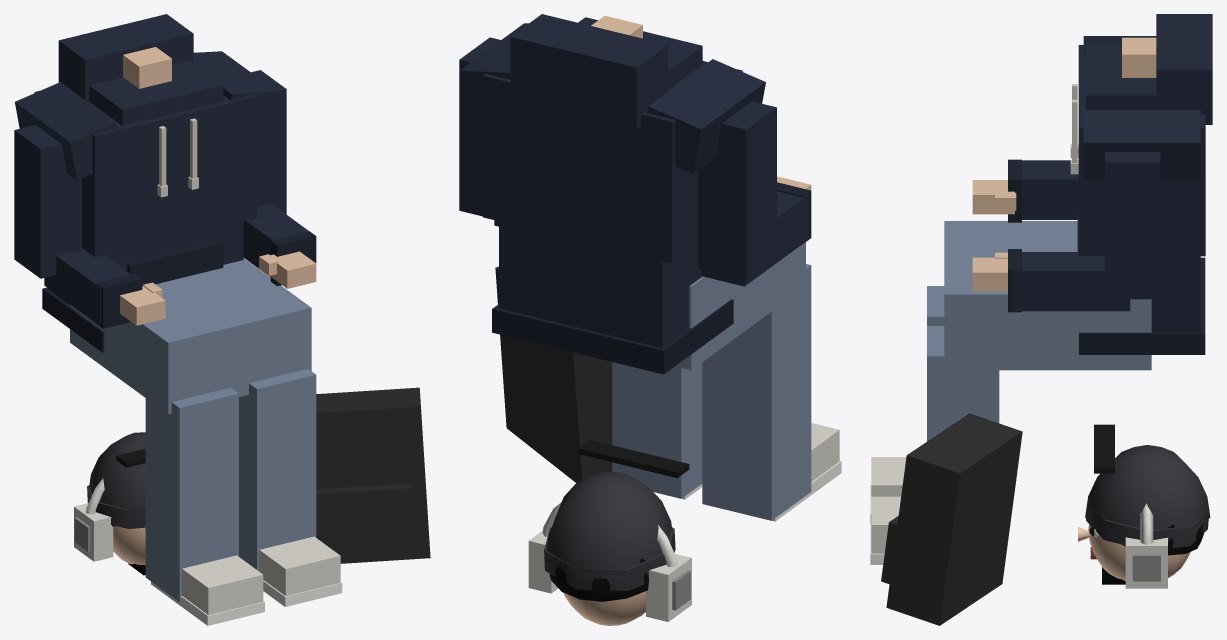
The model's file is passenger_hoodie_seated.fbx.
3 views of the same model, side by side, from view 1: azimuth 30°, elevation 25°; view 2: azimuth 150°, elevation 25°; view 3: azimuth 270°, elevation 25° (orthographic). The views are drawn at different scales.
Parts seen in each view (by area): view 1: Mesh_12, Mesh_15, Mesh_18, Mesh_16, Mesh_13, Body_Skin, Mesh_8, Mesh_17, Mesh_9, Mesh_14, Head_Skin; view 2: Mesh_12, Mesh_15, Mesh_18, Mesh_8, Mesh_13, Mesh_9, Mesh_0, Head_Skin, Mesh_1, Mesh_16, Body_Skin, Mesh_17 (+1 smaller); view 3: Mesh_12, Mesh_15, Mesh_18, Mesh_8, Mesh_13, Body_Skin, Mesh_16, Mesh_9, Head_Skin, Mesh_0, Mesh_10, Mesh_14.
Part boxes in pixels (x1,y1,x2,y2): Mesh_12: (14,14,308,326); Mesh_15: (70,258,316,602); Mesh_18: (316,387,430,563); Mesh_16: (182,536,340,614); Mesh_13: (42,231,316,352); Body_Skin: (120,47,316,325); Mesh_8: (87,432,145,528); Mesh_17: (151,580,342,625); Mesh_9: (74,478,113,561); Mesh_14: (157,118,198,197); Head_Skin: (113,526,145,564); Mesh_12: (459,14,809,347); Mesh_15: (612,242,811,520); Mesh_18: (495,266,612,482); Mesh_8: (544,471,675,590); Mesh_13: (492,182,811,374); Mesh_9: (528,502,691,621); Mesh_0: (578,440,689,478); Head_Skin: (563,591,645,625); Mesh_1: (549,559,648,601); Mesh_16: (811,423,839,481); Body_Skin: (591,15,811,190); Mesh_17: (682,461,841,521); Mesh_12: (1012,14,1212,331); Mesh_15: (927,221,1151,441); Mesh_18: (881,413,1022,625); Mesh_8: (1085,445,1210,547); Mesh_13: (1008,159,1205,354); Body_Skin: (972,37,1156,291); Mesh_16: (871,457,906,553); Mesh_9: (1125,503,1167,588); Head_Skin: (1078,524,1190,580); Mesh_0: (1094,424,1114,473); Mesh_10: (1132,554,1160,581); Mesh_14: (1070,84,1078,174).
Bounding box in the file's own units: 0.8022 × 1.27 × 0.7275.
